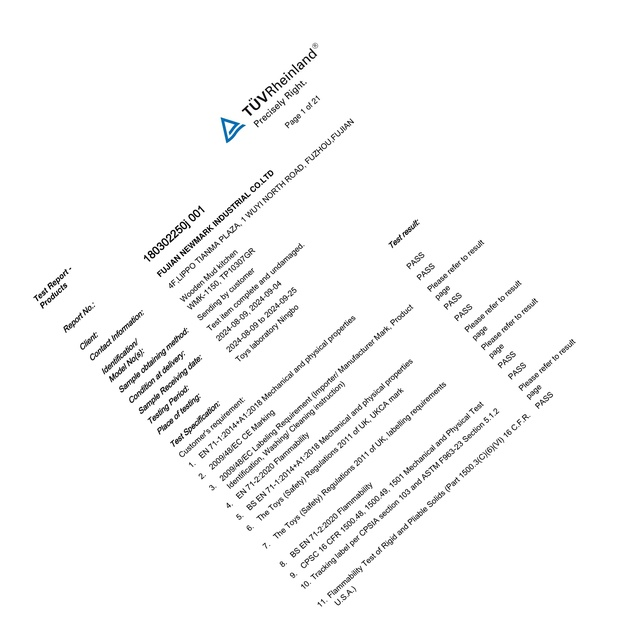tuv_rheinland: (220, 41, 322, 141)
